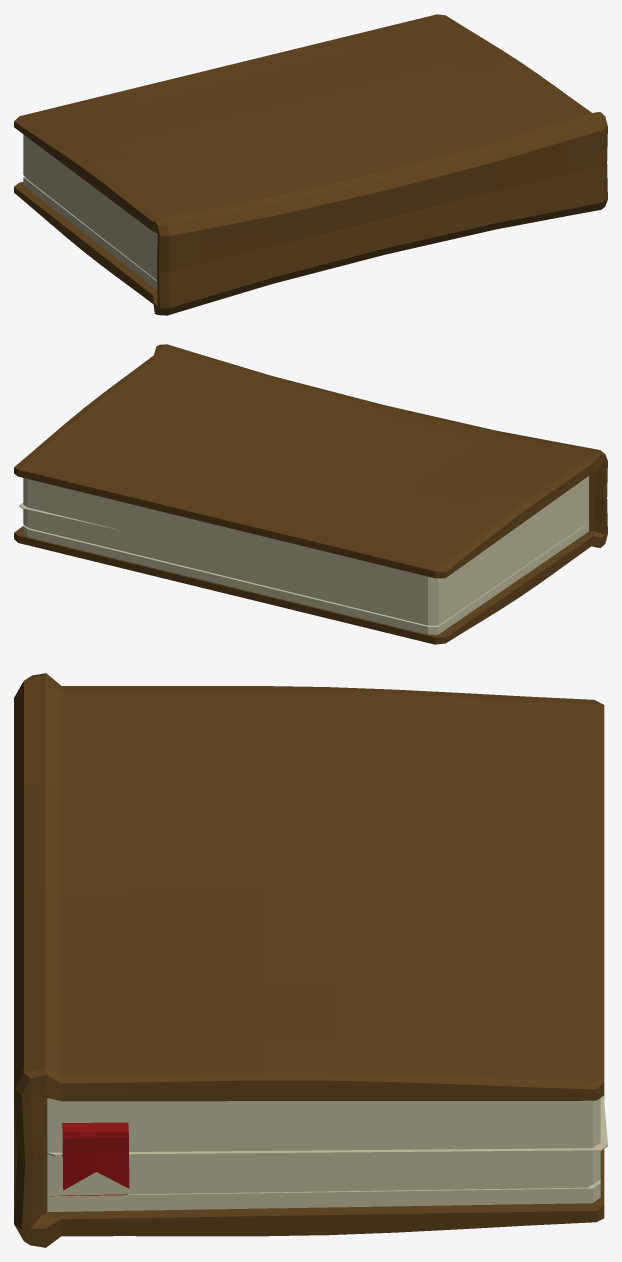
Rendered from livre-path_of-matches.fbx.
3 views of the same model, one above another, from view 1: azimuth 30°, elevation 25°; view 2: azimuth 150°, elevation 25°; view 3: azimuth 270°, elevation 25° (orthographic). The views are drawn at different scales.
Parts seen in each view (by area): view 1: Cube.001; view 2: Cube.001; view 3: Cube.001.
Boxes of the visible parts, x1=… form: Cube.001: x1=14, y1=14, x2=607, y2=315; Cube.001: x1=14, y1=344, x2=607, y2=644; Cube.001: x1=14, y1=673, x2=607, y2=1247.
Size of the model in its own units: 153 by 31.21 by 95.32.
